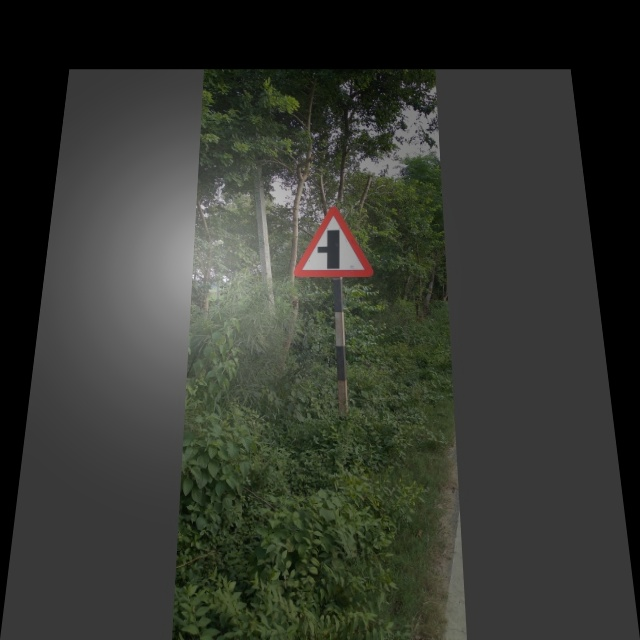Side_Road_Left: (290, 207, 369, 277)
